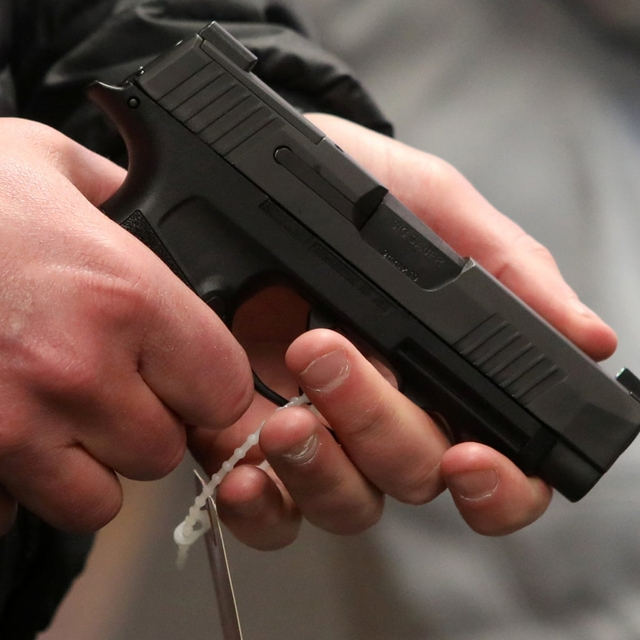SILAH: (46, 28, 640, 536)
